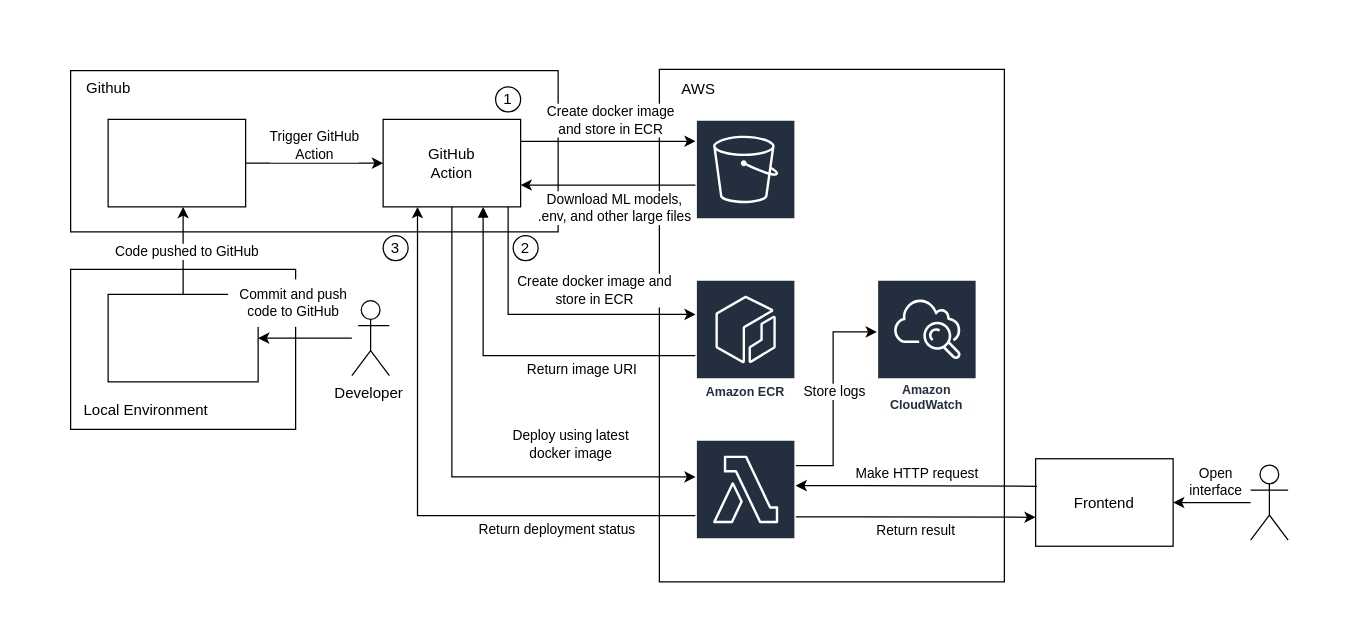
This 1363x639 diagram has some shape labels left out. Here are the shapes that lost their labels. From the top down, the centre of each, then its label:
At (x=176, y=162): "GitHub Repository".
At (x=745, y=181): "Amazon S3".
At (x=182, y=337): "Project Code".
At (x=745, y=501): "AWS Lambda".
At (x=1268, y=502): "End User".
